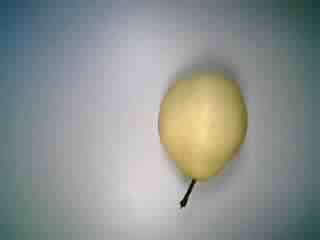pear: (137, 61, 256, 210)
